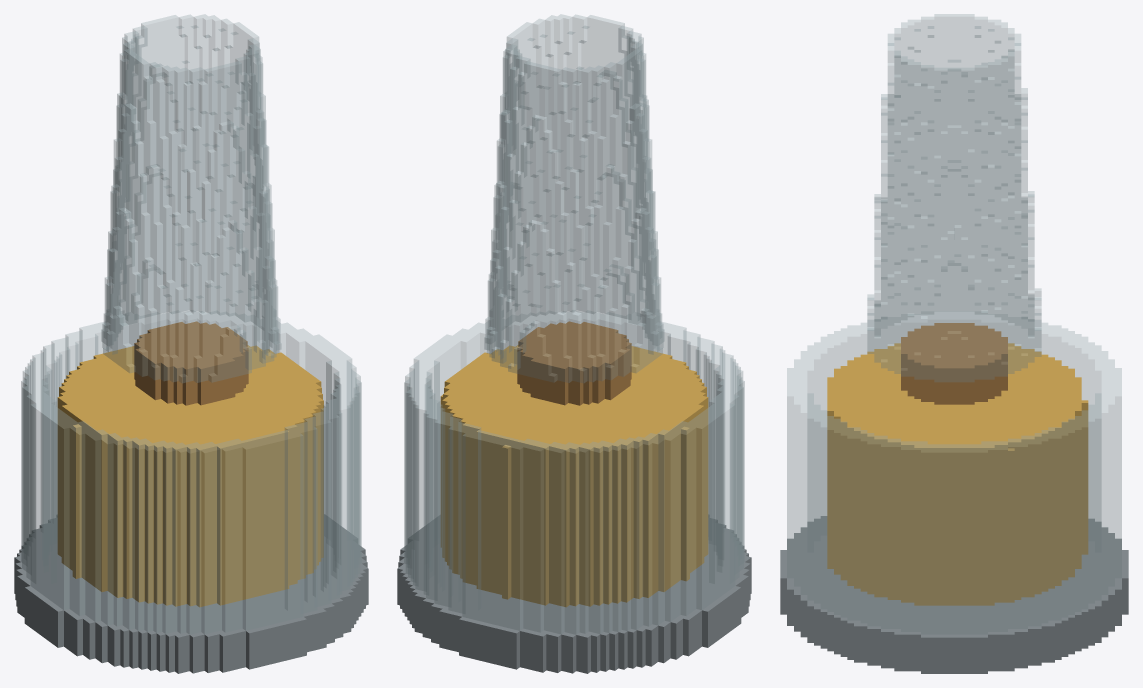
File: oil_lamp.glb
The picture shows the model from 3 angles, left to right: view 1: azimuth 30°, elevation 25°; view 2: azimuth 150°, elevation 25°; view 3: azimuth 270°, elevation 25°; orthographic projection.
Visible parts, largest first — view 1: reservoir:reservoir, fuel_fill:fuel_fill, chimney:chimney, base:base, burner:burner; view 2: reservoir:reservoir, fuel_fill:fuel_fill, chimney:chimney, base:base, burner:burner; view 3: reservoir:reservoir, fuel_fill:fuel_fill, chimney:chimney, base:base, burner:burner.
Part boxes in pixels (x1,y1,x2,y2): reservoir:reservoir: (21,311,361,634); fuel_fill:fuel_fill: (57,345,323,607); chimney:chimney: (101,14,281,383); base:base: (14,514,368,673); burner:burner: (134,321,248,405); reservoir:reservoir: (404,311,744,634); fuel_fill:fuel_fill: (440,345,708,607); chimney:chimney: (484,14,664,383); base:base: (397,515,751,673); burner:burner: (517,321,631,405); reservoir:reservoir: (787,312,1121,634); fuel_fill:fuel_fill: (827,343,1088,605); chimney:chimney: (867,14,1041,381); base:base: (780,516,1128,673); burner:burner: (901,323,1007,404).
Size of the model in its own units: 0.104 by 0.184 by 0.104.
